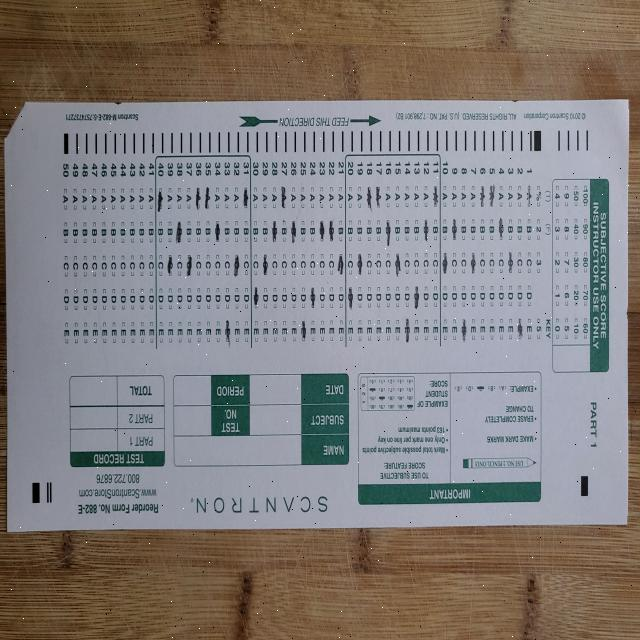scantron: (4, 99, 629, 531)
